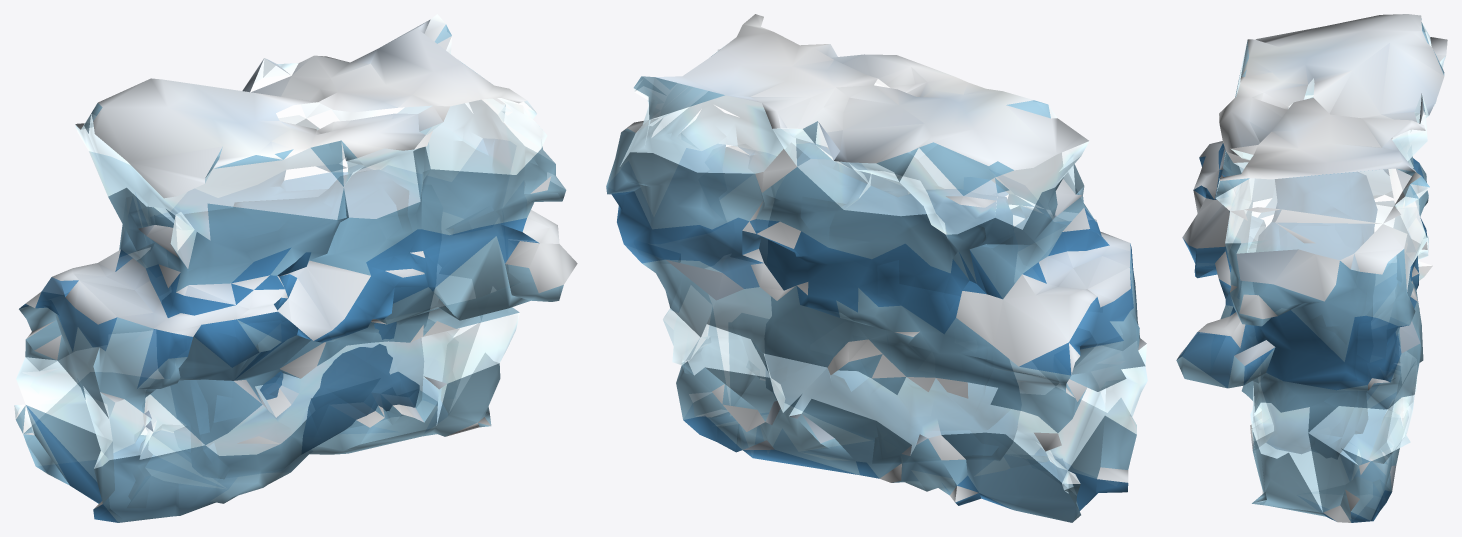
Rendered from frost_ice_cliff_a_lod1.glb.
3 views of the same model, side by side, from view 1: azimuth 30°, elevation 25°; view 2: azimuth 150°, elevation 25°; view 3: azimuth 270°, elevation 25° (orthographic). The views are drawn at different scales.
Parts seen in each view (by area): view 1: frost_ice_cliff_a.001; view 2: frost_ice_cliff_a.001; view 3: frost_ice_cliff_a.001.
Boxes of the visible parts, box(x1,y1,x2,y2) form: frost_ice_cliff_a.001: box(14, 14, 577, 522); frost_ice_cliff_a.001: box(606, 14, 1147, 522); frost_ice_cliff_a.001: box(1176, 14, 1447, 522).
Bounding box in the file's own units: 14.65 × 11.04 × 7.28.
